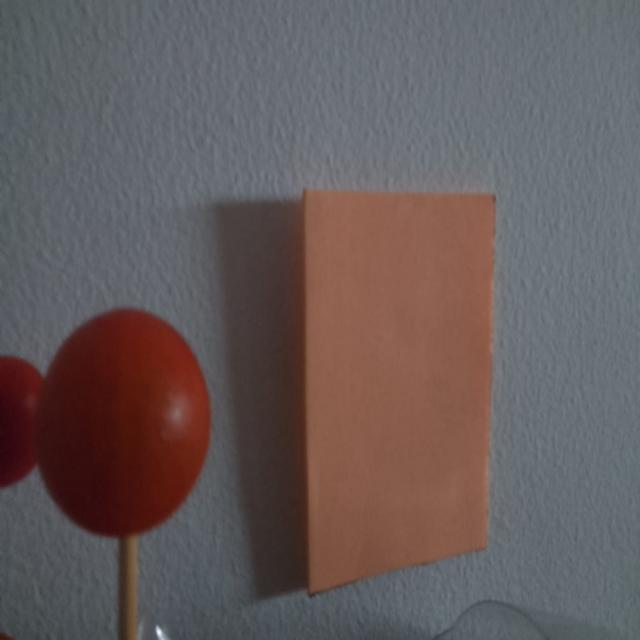card: (302, 190, 494, 593)
fruit_maturation: (0, 309, 210, 535)
